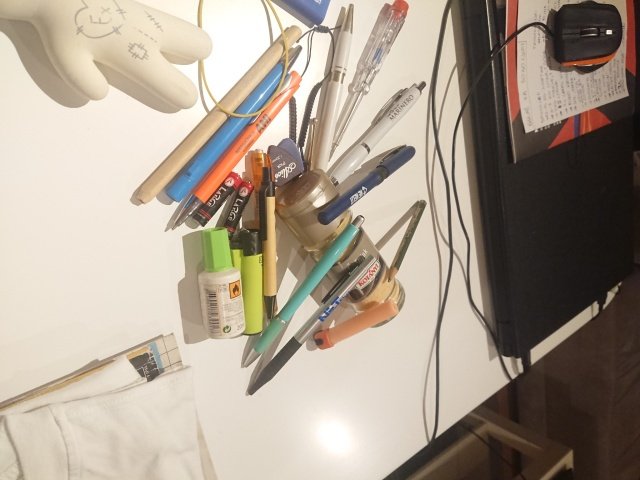Kotanyi Garlic Granules 70g: (273, 166, 407, 330)
